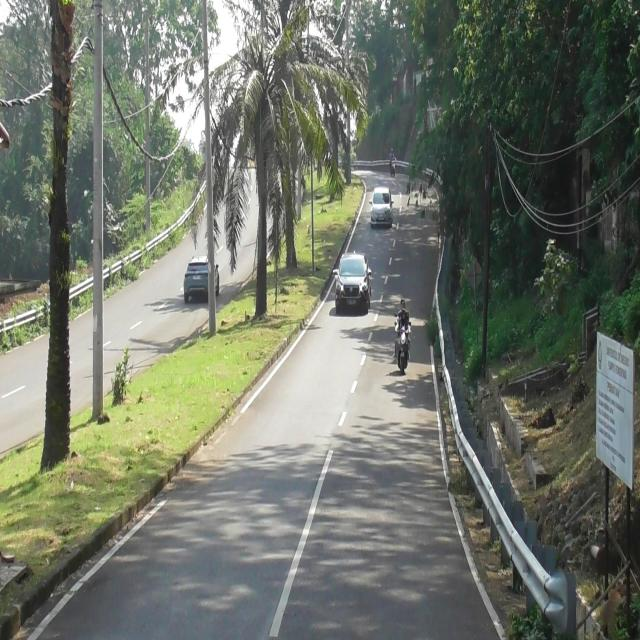motorcycle: (396, 329, 411, 376), (390, 160, 396, 177)
person: (396, 310, 412, 334), (389, 146, 396, 160), (400, 299, 407, 309)
rider_region: (394, 295, 414, 381), (389, 144, 397, 177)
